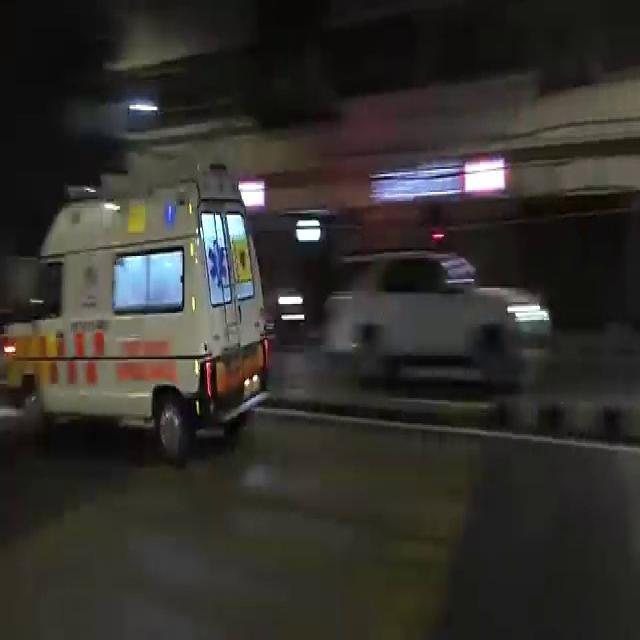ambulance: (19, 200, 276, 431)
